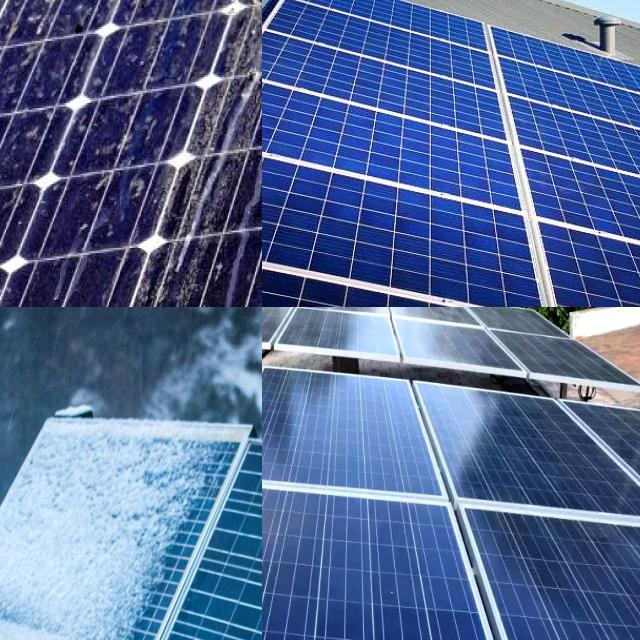bird: (84, 0, 190, 24), (25, 0, 84, 36), (0, 0, 29, 66), (64, 11, 98, 52)
crack: (262, 140, 567, 307), (262, 73, 530, 233), (403, 365, 640, 544), (262, 18, 512, 144), (262, 360, 460, 516), (440, 491, 640, 640), (262, 498, 456, 640), (506, 141, 640, 289), (469, 13, 640, 119), (497, 93, 640, 209), (494, 52, 640, 156), (269, 0, 510, 51)
panel: (0, 402, 180, 640)
